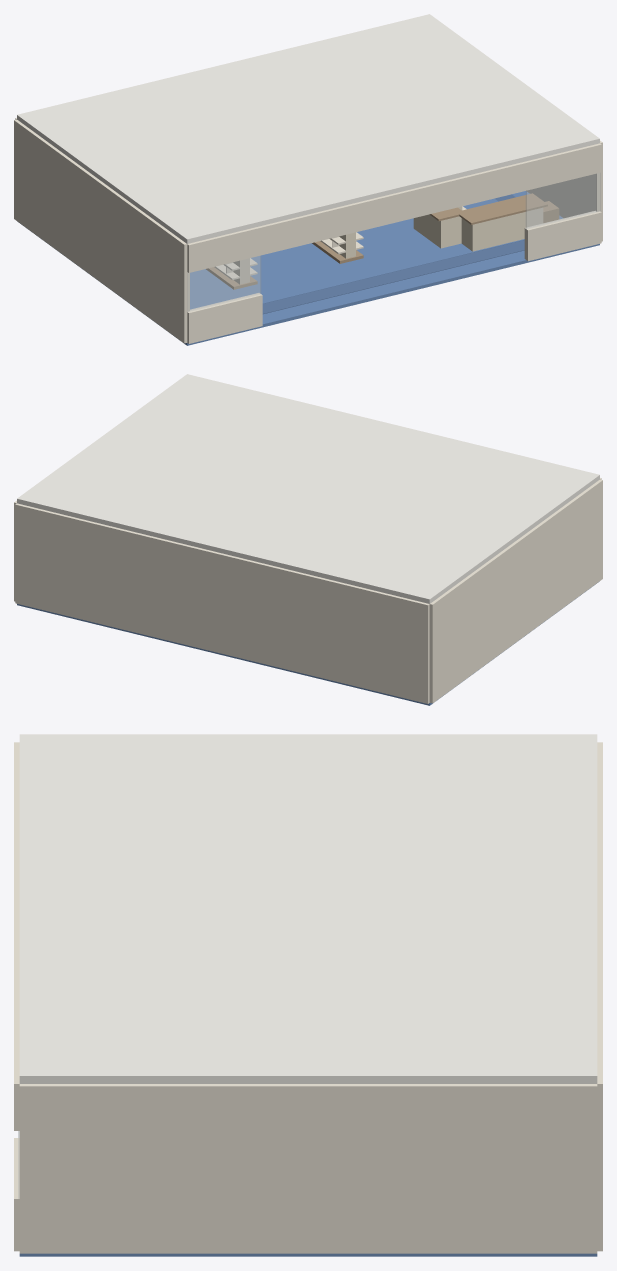
Rendered from video_store.glb.
The picture shows the model from 3 angles, top to bottom: view 1: azimuth 30°, elevation 25°; view 2: azimuth 150°, elevation 25°; view 3: azimuth 270°, elevation 25°; orthographic projection. The views are drawn at different scales.
Visible parts, largest first — view 1: static_video_ceiling, static_video_wall, static_video_carpet, static_video_glass, static_video_counter, static_video_carpet_dark, static_video_counter_top, static_video_trim, static_video_shelf, static_video_gondola_back; view 2: static_video_ceiling, static_video_wall, static_video_carpet; view 3: static_video_ceiling, static_video_wall, static_video_carpet.
Part boxes in pixels (x1=…): static_video_ceiling: x1=17, y1=14, x2=599, y2=243; static_video_wall: x1=14, y1=118, x2=602, y2=343; static_video_carpet: x1=17, y1=191, x2=599, y2=345; static_video_glass: x1=187, y1=173, x2=600, y2=311; static_video_counter: x1=413, y1=207, x2=543, y2=251; static_video_carpet_dark: x1=262, y1=194, x2=524, y2=314; static_video_counter_top: x1=429, y1=193, x2=559, y2=224; static_video_trim: x1=206, y1=241, x2=363, y2=289; static_video_shelf: x1=214, y1=206, x2=466, y2=279; static_video_gondola_back: x1=224, y1=206, x2=462, y2=284; static_video_ceiling: x1=17, y1=374, x2=599, y2=603; static_video_wall: x1=14, y1=478, x2=602, y2=703; static_video_carpet: x1=17, y1=581, x2=599, y2=705; static_video_ceiling: x1=19, y1=734, x2=597, y2=1083; static_video_wall: x1=14, y1=742, x2=602, y2=1253; static_video_carpet: x1=19, y1=1253, x2=597, y2=1256.
Bounding box in the file's own units: 14.2 × 3.46 × 10.2.
